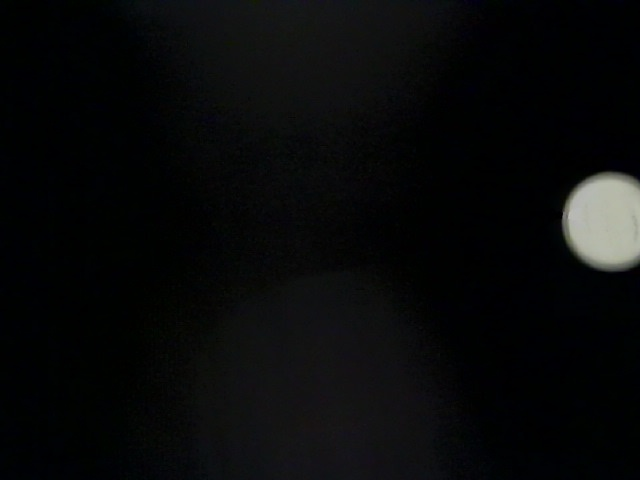CYLJ: (45, 390, 227, 480)
